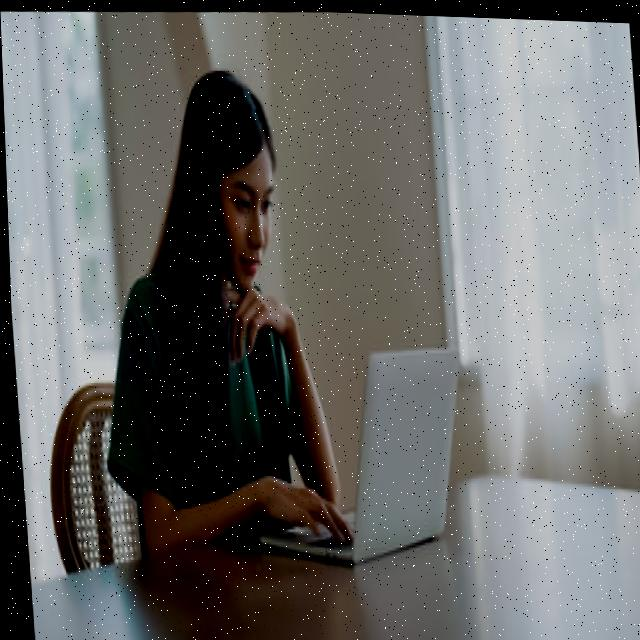notebook-person: (76, 39, 476, 600)
